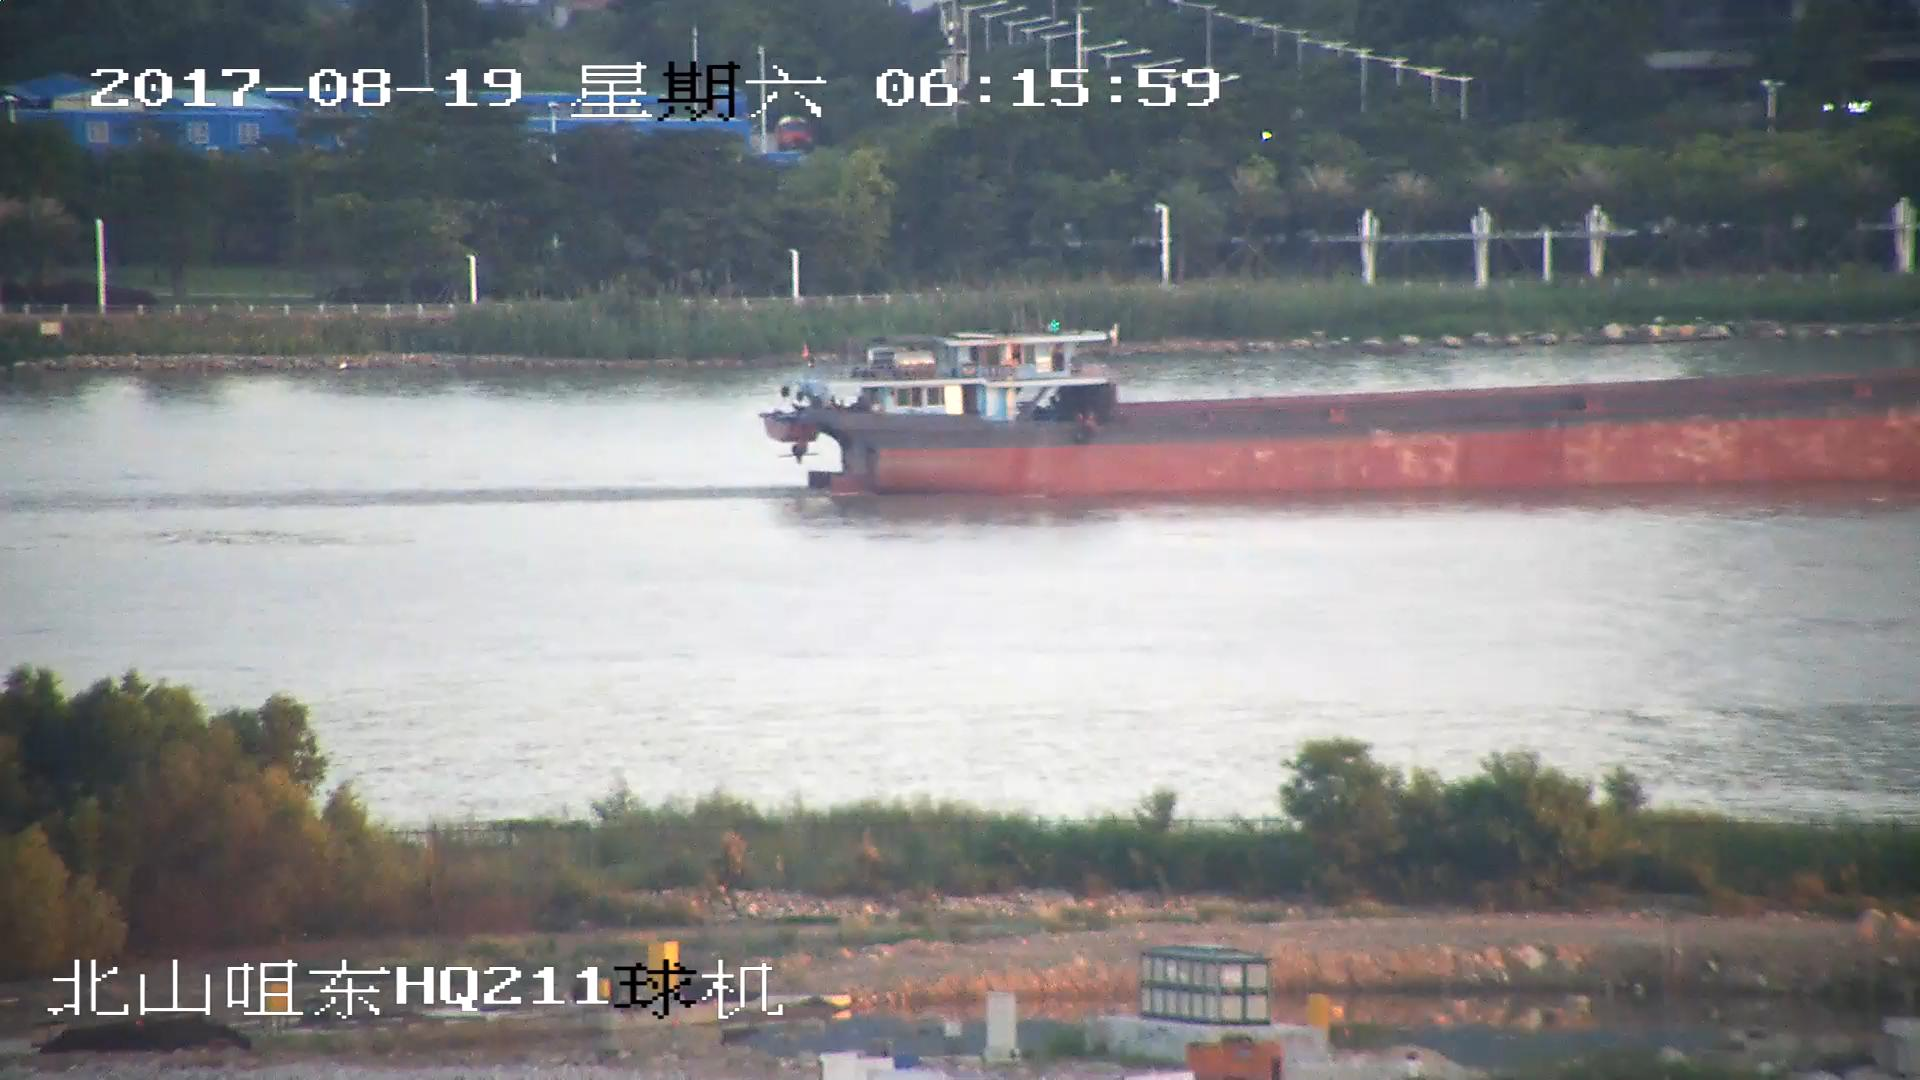bulk cargo carrier: (765, 319, 1920, 497)
